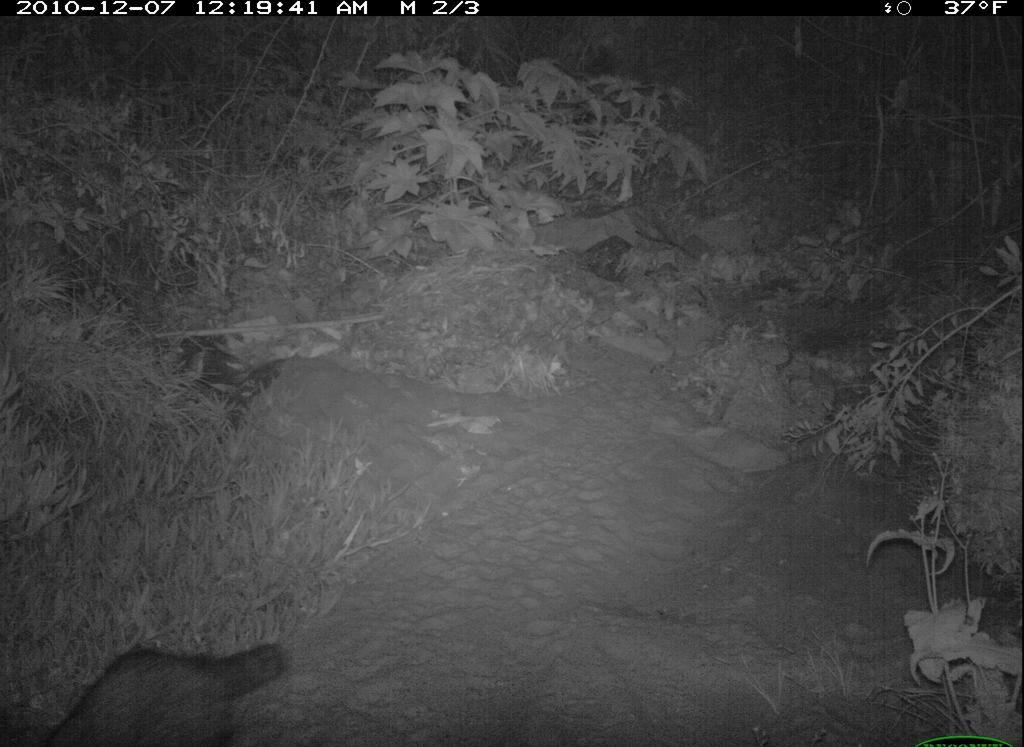raccoon: (18, 625, 299, 745)
